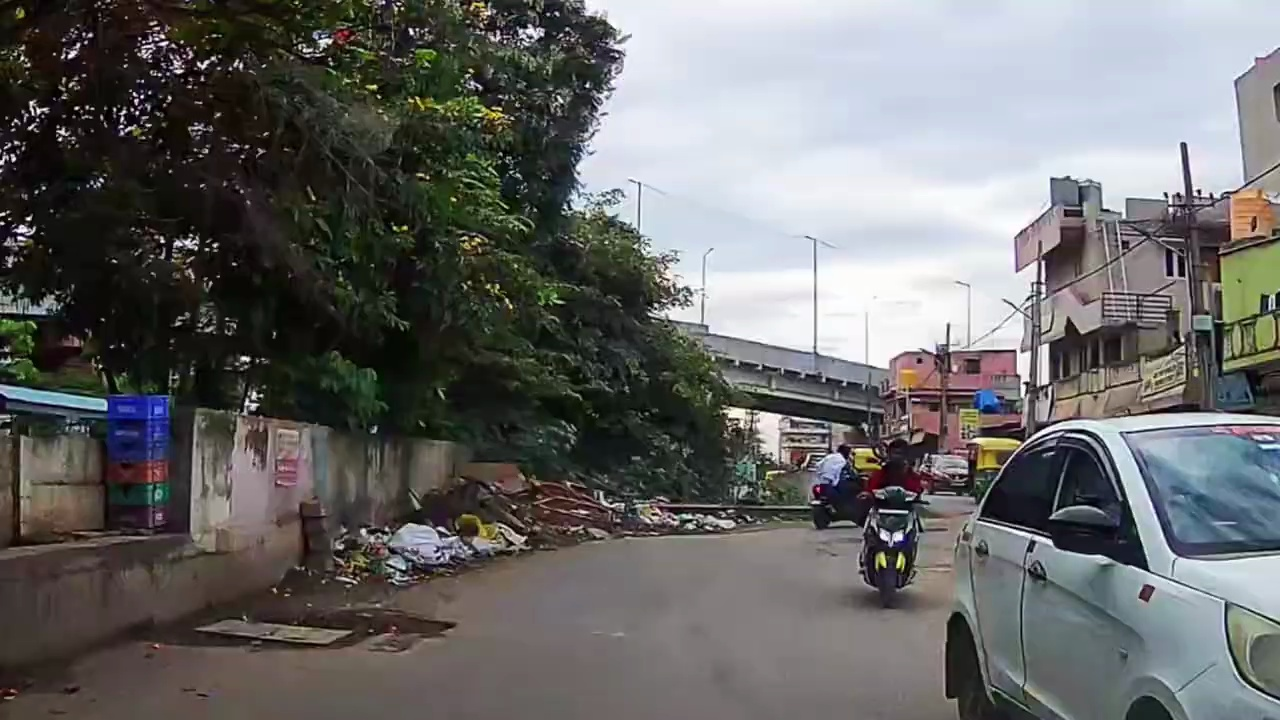garbage: (350, 521, 482, 558), (613, 497, 728, 537)
